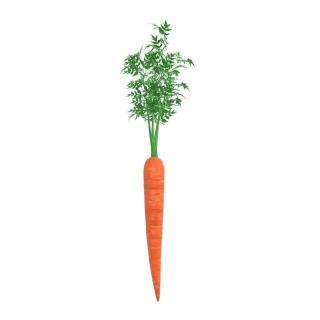carrot: (142, 150, 166, 302)
